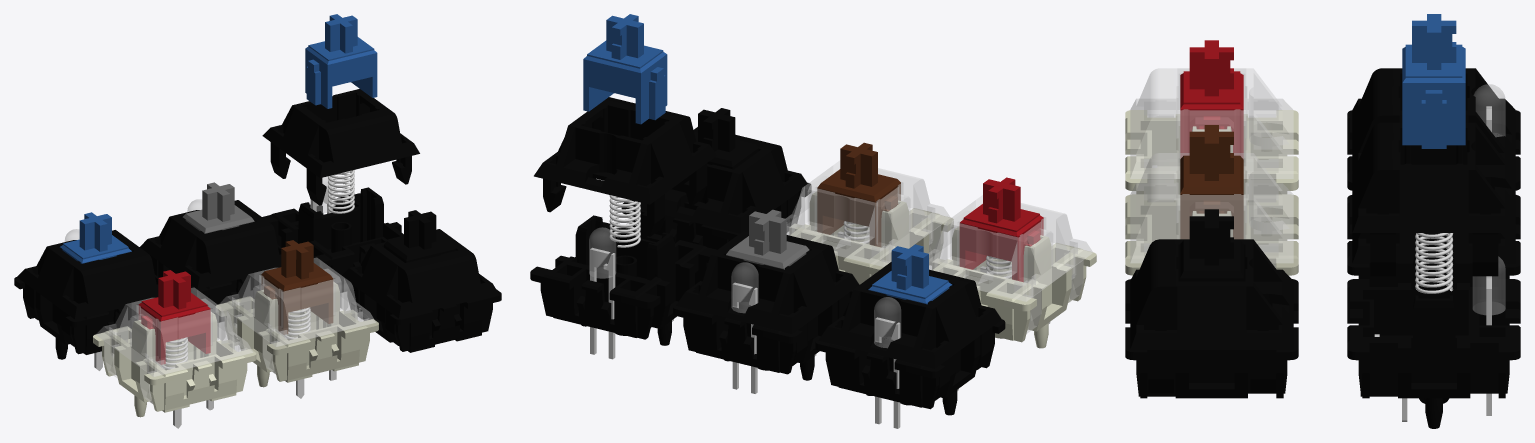
The model's file is switch.glb.
The picture shows the model from 3 angles, left to right: view 1: azimuth 30°, elevation 25°; view 2: azimuth 150°, elevation 25°; view 3: azimuth 270°, elevation 25°; orthographic projection. The views are drawn at different scales.
Parts seen in each view (by area): view 1: Mid Top.001, Mid Bottom PCB LED, Low Bottom PCB LED, Very Low Top PCB LED, Mid Top PCB LED, Mid Top, Low Top PCB LED, Low Top, Mid Bottom.001, Mid Switch.001, Very Low Bottom PCB LED, Low Switch PCB LED (+7 smaller); view 2: Mid Top.001, Mid Bottom.001, Mid Top, Low Top, Mid Top PCB LED, Low Top PCB LED, Mid Bottom PCB LED, Very Low Top PCB LED, Mid Bottom, Mid Switch.001, Low Bottom, Low Bottom PCB LED (+10 smaller); view 3: Mid Bottom.001, Mid Top.001, Very Low Top PCB LED, Mid Top PCB LED, Low Top PCB LED, Mid Bottom PCB LED, Mid Switch.001, Low Bottom PCB LED, Very Low Bottom PCB LED, Mid Top, Mid Switch PCB LED, Low Switch PCB LED (+7 smaller).
Boxes of the visible parts, left/top/right/bottom form: Mid Top.001: left=262, top=89, right=419, bottom=205; Mid Bottom PCB LED: left=93, top=312, right=256, bottom=417; Low Bottom PCB LED: left=216, top=282, right=378, bottom=387; Very Low Top PCB LED: left=341, top=229, right=498, bottom=345; Mid Top PCB LED: left=96, top=287, right=252, bottom=403; Mid Top: left=17, top=230, right=158, bottom=346; Low Top PCB LED: left=219, top=257, right=375, bottom=374; Low Top: left=140, top=200, right=281, bottom=289; Mid Bottom.001: left=262, top=187, right=403, bottom=292; Mid Switch.001: left=305, top=14, right=377, bottom=108; Very Low Bottom PCB LED: left=338, top=274, right=501, bottom=352; Low Switch PCB LED: left=261, top=240, right=333, bottom=334; Mid Top.001: left=534, top=97, right=716, bottom=236; Mid Bottom.001: left=530, top=215, right=716, bottom=345; Mid Top: left=818, top=262, right=1001, bottom=400; Low Top: left=676, top=227, right=859, bottom=365; Mid Top PCB LED: left=928, top=195, right=1092, bottom=333; Low Top PCB LED: left=786, top=161, right=950, bottom=266; Mid Bottom PCB LED: left=932, top=226, right=1096, bottom=348; Very Low Top PCB LED: left=626, top=127, right=807, bottom=233; Mid Bottom: left=815, top=319, right=1005, bottom=415; Mid Switch.001: left=583, top=14, right=667, bottom=124; Low Bottom: left=673, top=285, right=858, bottom=380; Low Bottom PCB LED: left=789, top=191, right=953, bottom=284; Mid Bottom.001: left=1347, top=254, right=1520, bottom=428; Mid Top.001: left=1352, top=122, right=1515, bottom=276; Very Low Top PCB LED: left=1130, top=239, right=1293, bottom=393; Mid Top PCB LED: left=1130, top=68, right=1293, bottom=182; Low Top PCB LED: left=1130, top=153, right=1293, bottom=267; Mid Bottom PCB LED: left=1125, top=110, right=1298, bottom=202; Mid Switch.001: left=1402, top=14, right=1465, bottom=148; Low Bottom PCB LED: left=1125, top=194, right=1298, bottom=275; Very Low Bottom PCB LED: left=1125, top=279, right=1298, bottom=398; Mid Top: left=1352, top=68, right=1515, bottom=163; Mid Switch PCB LED: left=1180, top=40, right=1243, bottom=158; Low Switch PCB LED: left=1180, top=125, right=1243, bottom=239.
Bounding box in the file's own units: 0.0516 × 0.0383 × 0.0356.
